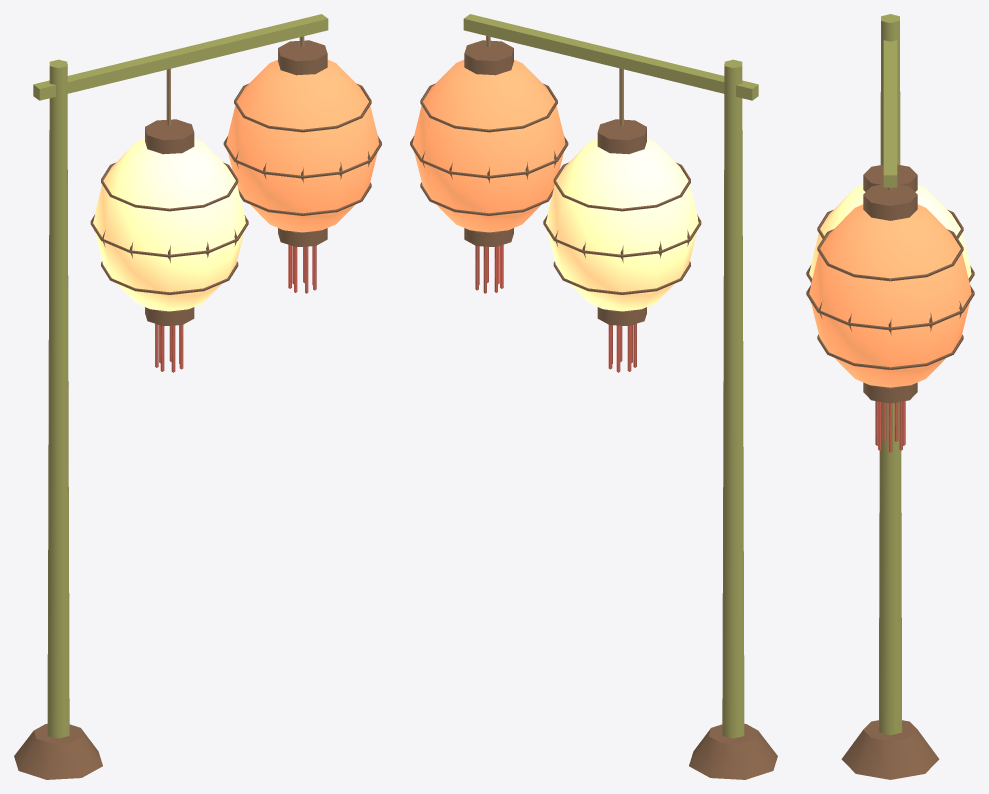
Rendered from prop_tc_long_den_giay.81ed75e51b.glb.
3 views of the same model, side by side, from view 1: azimuth 30°, elevation 25°; view 2: azimuth 150°, elevation 25°; view 3: azimuth 270°, elevation 25° (orthographic). The views are drawn at different scales.
Parts seen in each view (by area): view 1: prop_tc_long_den_giay; view 2: prop_tc_long_den_giay; view 3: prop_tc_long_den_giay.
Boxes of the visible parts, x1,y1,x2,y2 form: prop_tc_long_den_giay: (14,14,381,779); prop_tc_long_den_giay: (410,14,777,779); prop_tc_long_den_giay: (806,14,974,779).
Size of what is drawn, in the model's own units: 1.59 by 3 by 0.6171.
